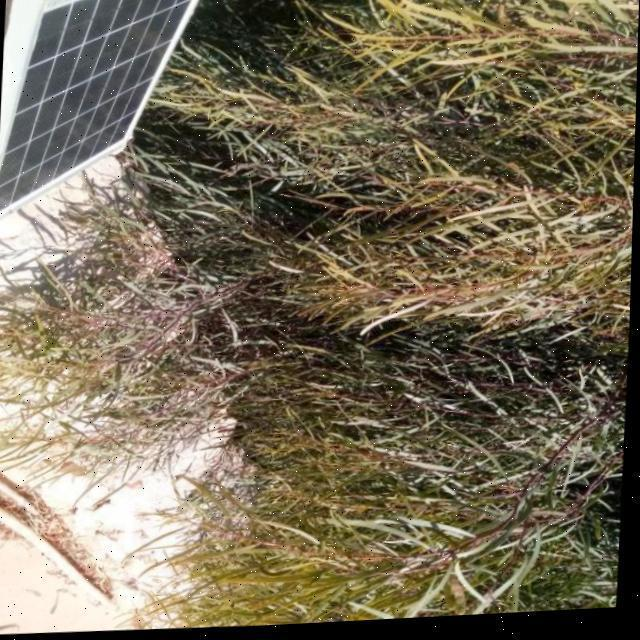Normal Solar Panel: (0, 0, 220, 231)
